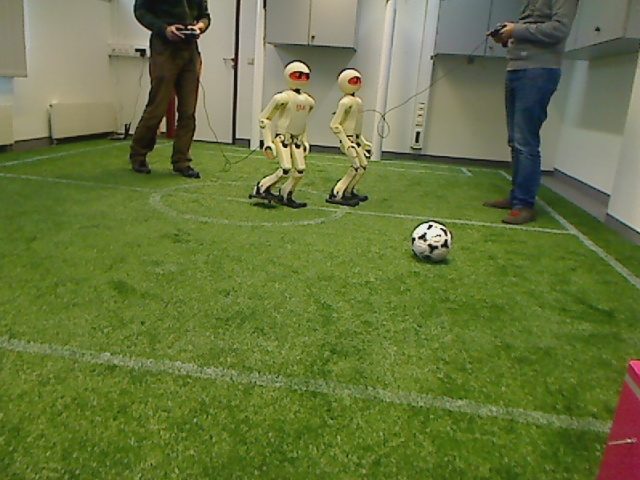ball: (408, 220, 455, 264)
robot: (250, 59, 313, 206), (325, 65, 372, 209)
